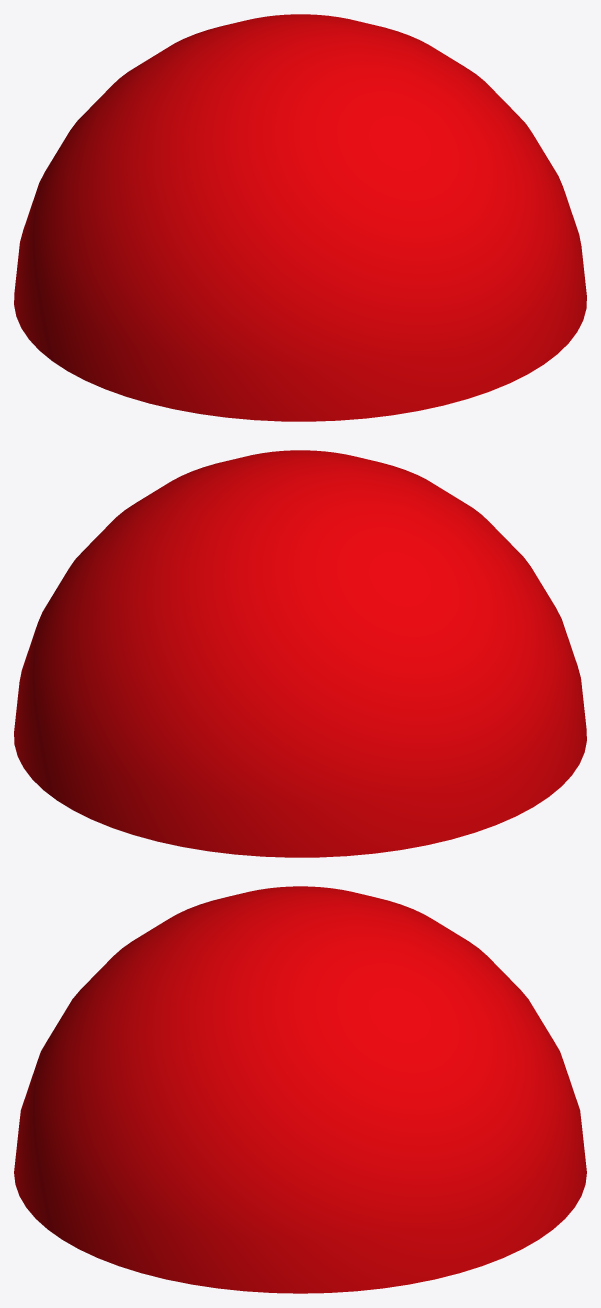
The model's file is Dome.fbx.
3 renders of one model, top to bottom at view 1: azimuth 30°, elevation 25°; view 2: azimuth 150°, elevation 25°; view 3: azimuth 270°, elevation 25°, orthographic.
Visible parts, largest first — view 1: Dome; view 2: Dome; view 3: Dome.
Boxes of the visible parts, bbox=[...] form: Dome: bbox=[14, 14, 586, 421]; Dome: bbox=[14, 450, 586, 857]; Dome: bbox=[14, 886, 586, 1293].
Bounding box in the file's own units: 2400 × 1201 × 2400.
